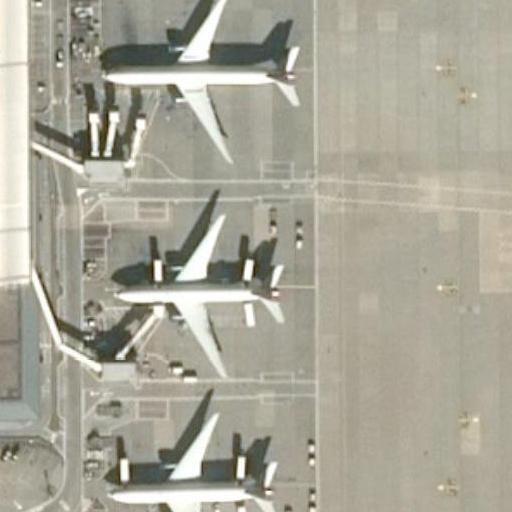Aircraft: (92, 0, 299, 164), (102, 212, 288, 379), (102, 415, 281, 512)
